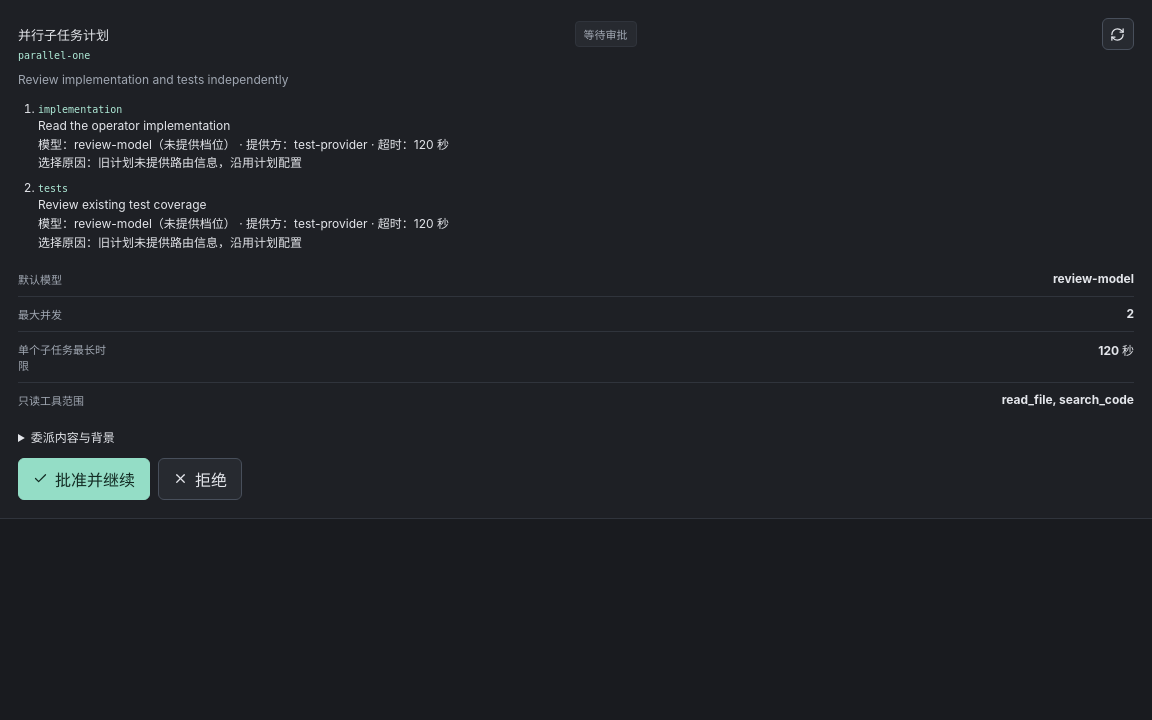
Test: ParallelPlanCard › does not continue an unexpected decision response: {"plan_id":"parallel-one","session_id":"session-one","reason":"Review implementation and tests independently"
Step 1. Click the button "批准并继续" → click(84, 479), box [18,458,150,500]
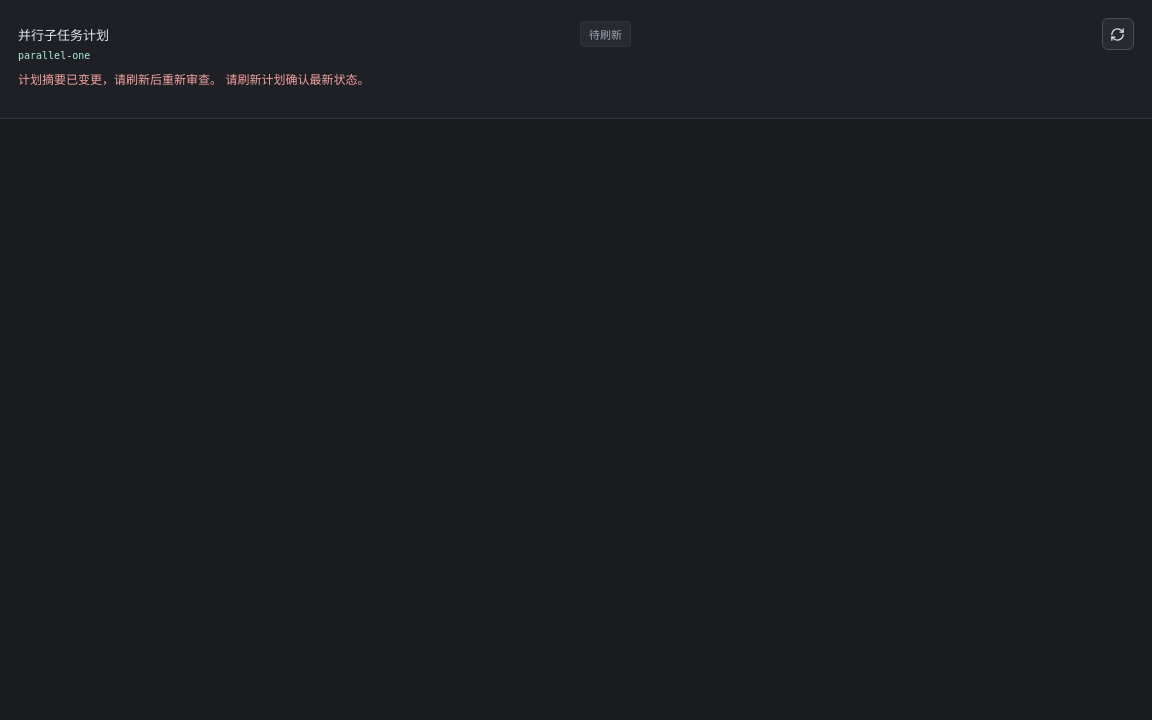
Result: the message "计划摘要已变更，请刷新后重新审查。 请刷新计划确认最新状态。" is shown at [18,72,369,87]
